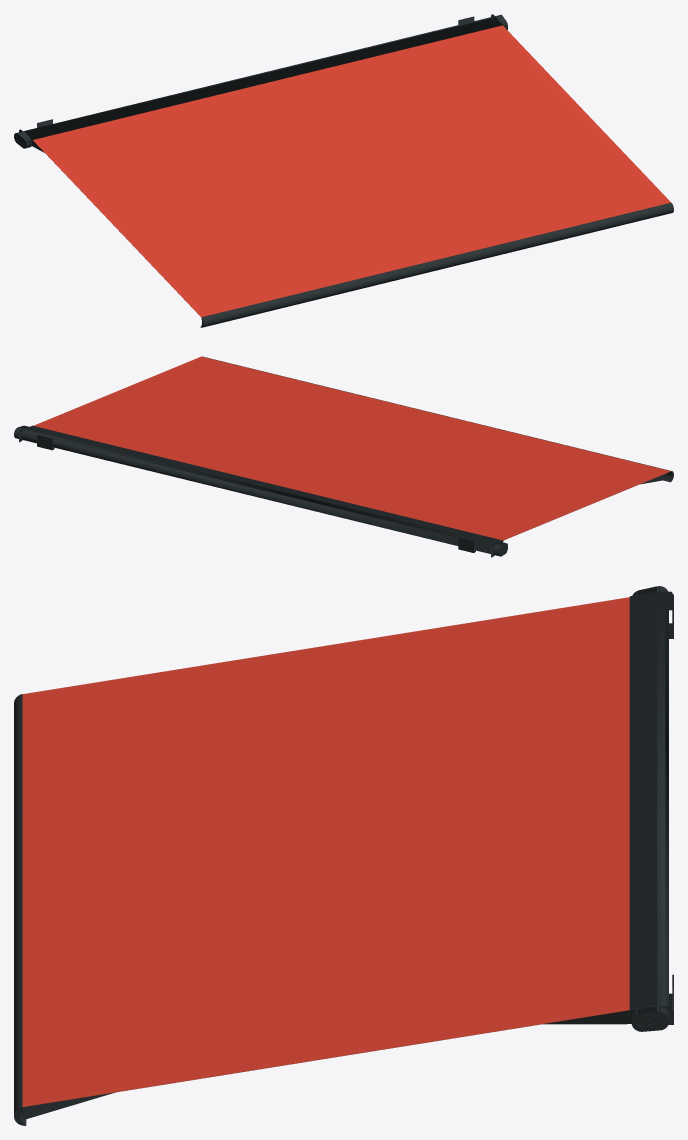
3 renders of one model, top to bottom at view 1: azimuth 30°, elevation 25°; view 2: azimuth 150°, elevation 25°; view 3: azimuth 270°, elevation 25°, orthographic. The views are drawn at different scales.
Visible parts, largest first — view 1: cloth, base, frontbar; view 2: cloth, base, frontbar; view 3: cloth, base, frontbar.
Boxes of the visible parts, left/top/right/bottom form: cloth: left=33, top=25, right=670, bottom=317; base: left=14, top=14, right=507, bottom=148; frontbar: left=200, top=202, right=673, bottom=327; cloth: left=33, top=356, right=670, bottom=540; base: left=14, top=425, right=507, bottom=557; frontbar: left=201, top=356, right=673, bottom=482; cloth: left=22, top=597, right=644, bottom=1107; base: left=629, top=586, right=673, bottom=1031; frontbar: left=14, top=694, right=26, bottom=1125.
Size of the model in its own units: 619 by 83.13 by 405.
1 material, 1 textured.
